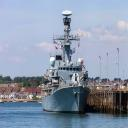Fragata: (41, 8, 93, 117)
